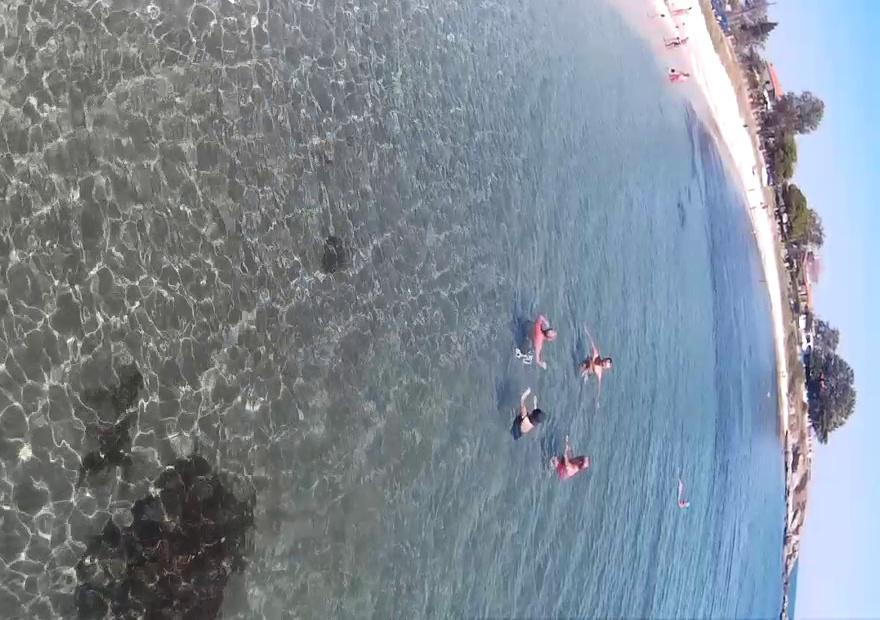swimmer: (522, 292, 559, 379), (580, 315, 616, 396), (514, 387, 563, 446), (566, 440, 589, 489)
